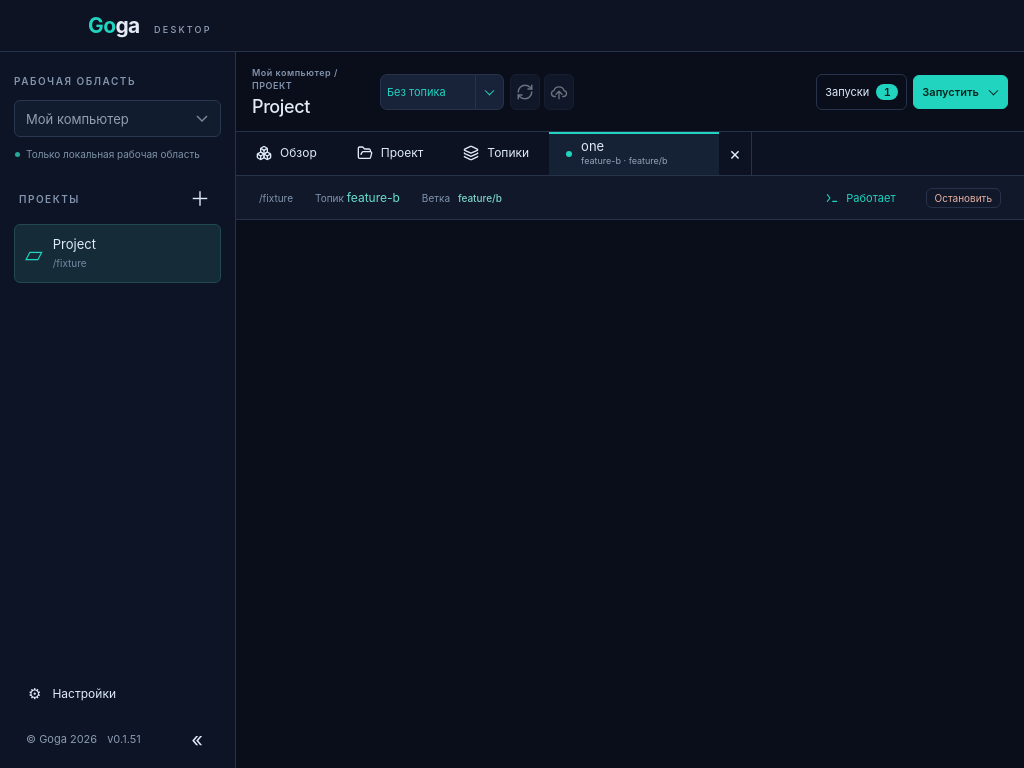
Test case: run link reads its snapshot even when current project topic differs; hides native view
Expected: the heading "Project" is shown, [252,96,310,116]
Expected: the tab with aria-label "one · feature-b" is shown, [549,132,719,175]
Click the button with aria-label "Топик запуска feature-b": (373, 198) [347,190,400,205]
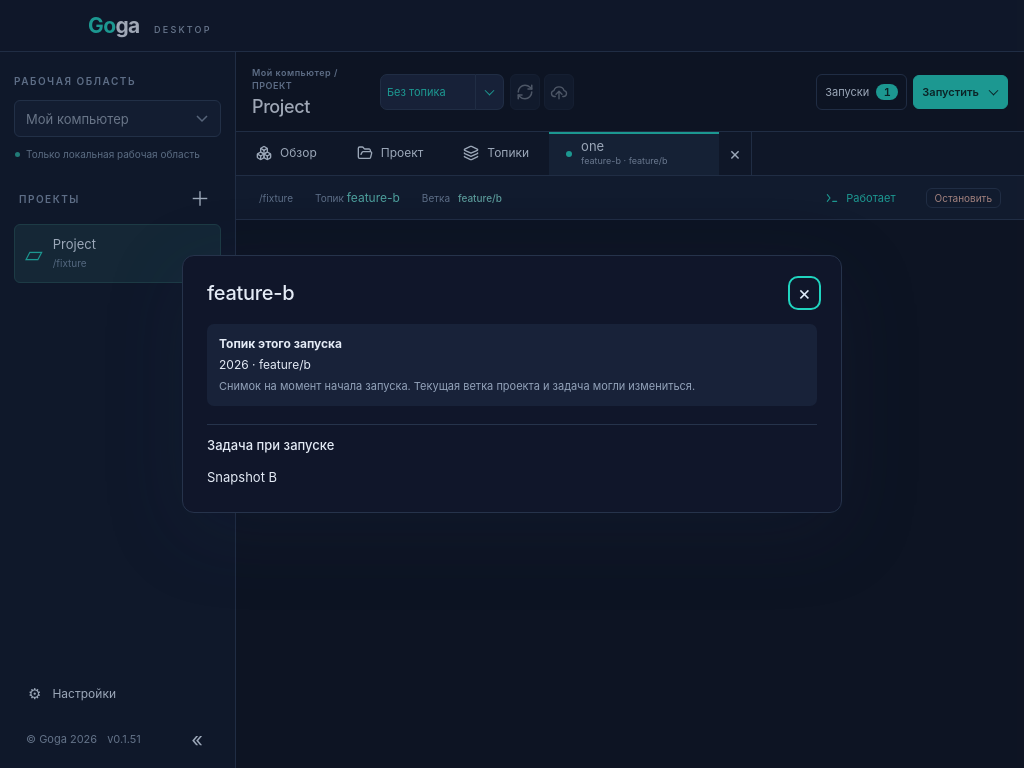
Now the text "Snapshot B" is shown, box [207,469,277,485]
Now the text "Топик этого запуска" is shown, box [219,336,342,350]
